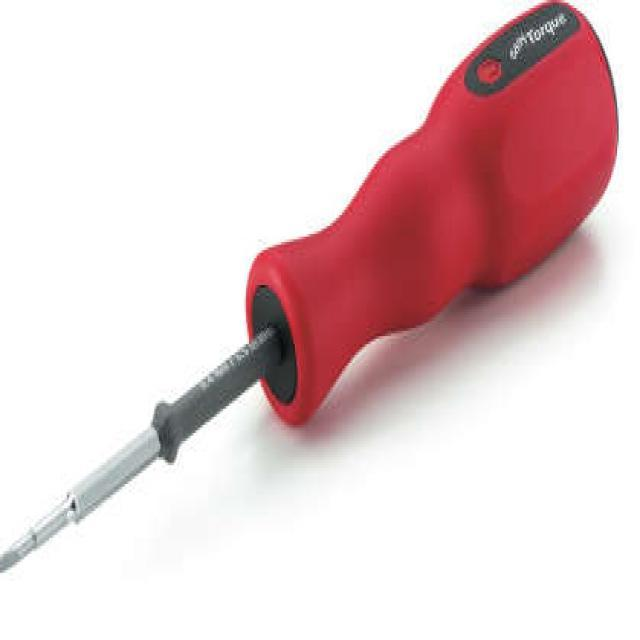screwdriver: (0, 0, 627, 590)
